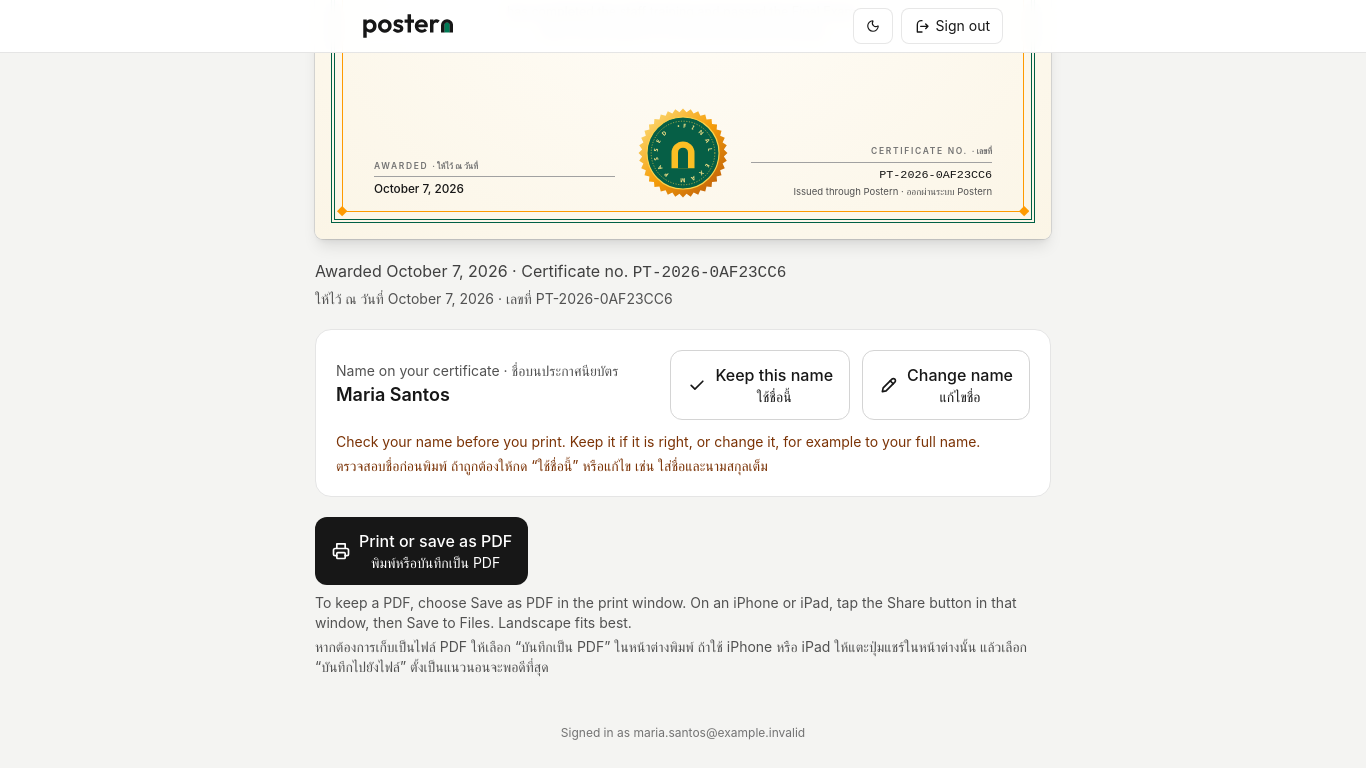
Test: a reader keeps a correct suggested name in one tap, and the note and button go
(page scrolled)
Click the button "Keep this name ใช้ชื่อนี้" at (760,385), box [670, 350, 850, 420]
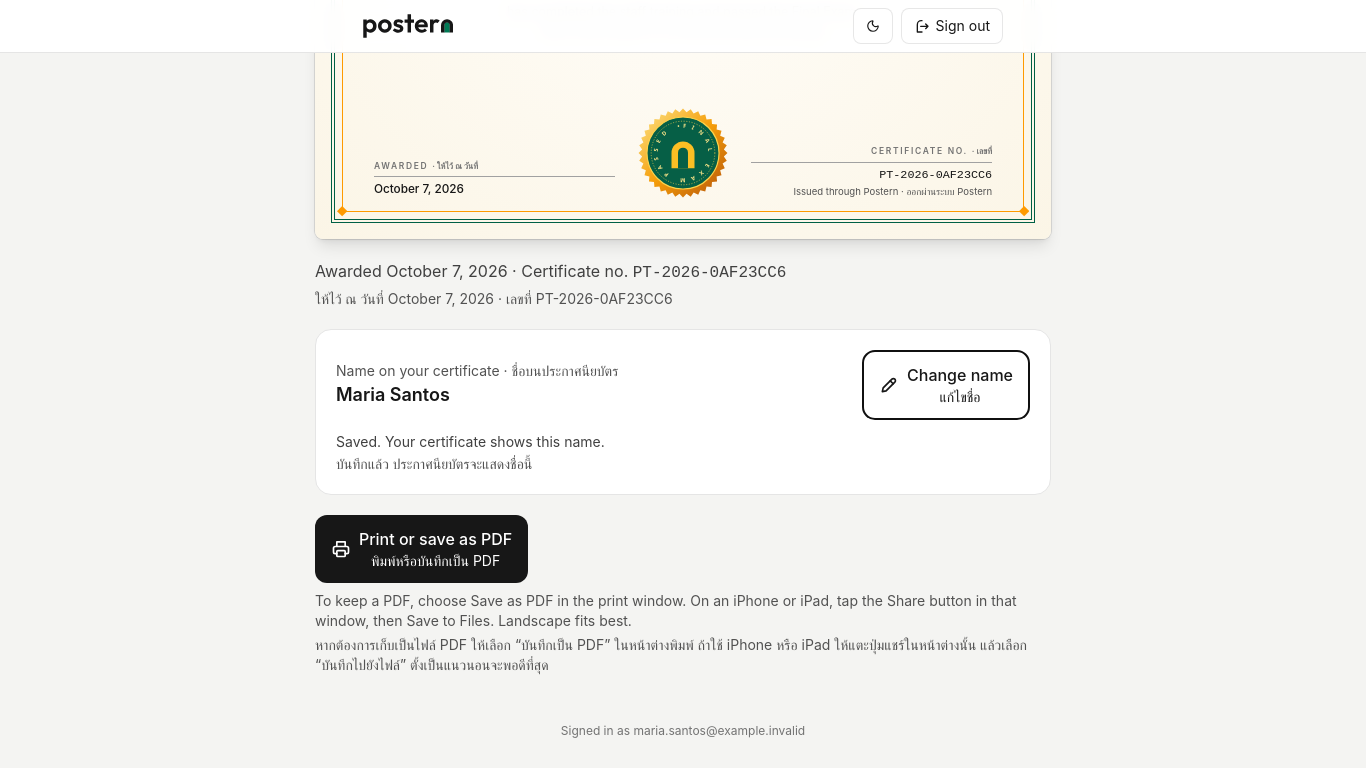
Result: the text "Saved. Your certificate shows this name. บันทึกแล้ว ประกาศนียบัตรจะแสดงชื่อนี้" is shown at [336, 433, 605, 472]
Result: the button "Keep this name" is gone
Result: the text "Check your name before you print" is gone
